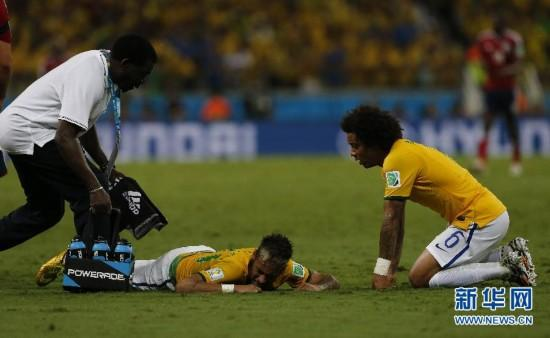bending: (334, 96, 538, 290), (1, 35, 160, 249)
down: (33, 233, 341, 296)
